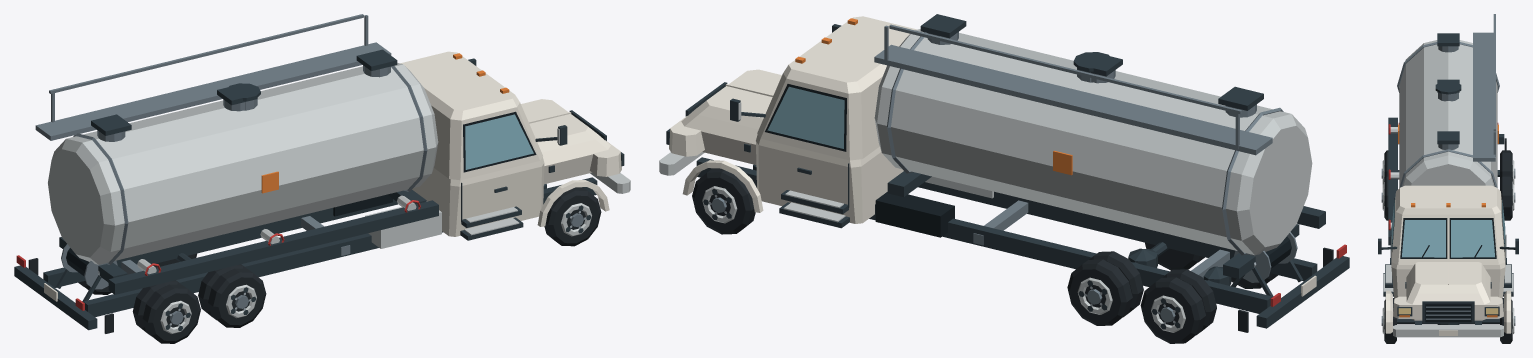
Rendered from b15_fuel_delivery_tanker.glb.
3 renders of one model, left to right at view 1: azimuth 30°, elevation 25°; view 2: azimuth 150°, elevation 25°; view 3: azimuth 270°, elevation 25°, orthographic. The views are drawn at different scales.
Visible parts, largest first — view 1: b15_fuel_delivery_tanker; view 2: b15_fuel_delivery_tanker; view 3: b15_fuel_delivery_tanker.
Boxes of the visible parts, bbox=[...] form: b15_fuel_delivery_tanker: bbox=[14, 14, 630, 343]; b15_fuel_delivery_tanker: bbox=[659, 14, 1349, 343]; b15_fuel_delivery_tanker: bbox=[1378, 14, 1518, 343].
Bounding box in the file's own units: 9.88 × 3.68 × 2.92.
